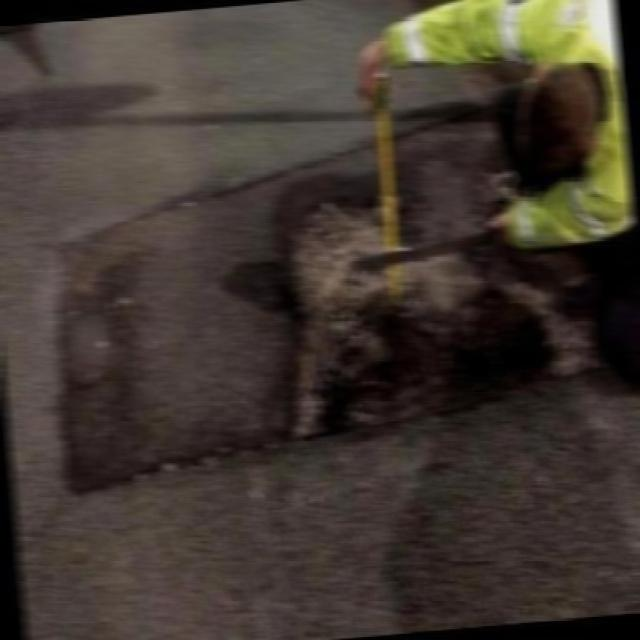Pothole: (51, 93, 597, 512)
